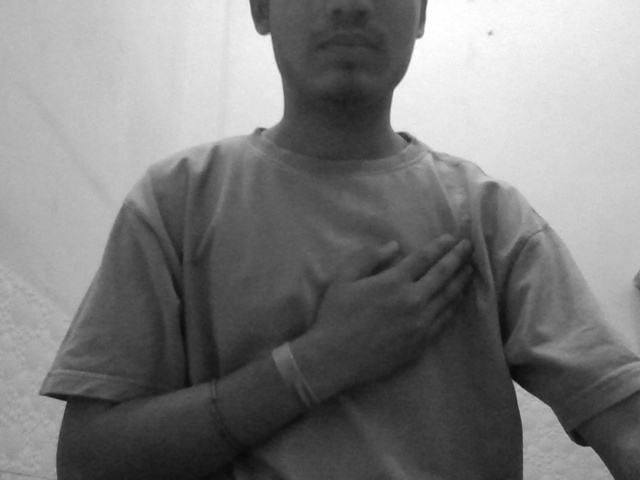Sorry: (285, 220, 505, 404)
